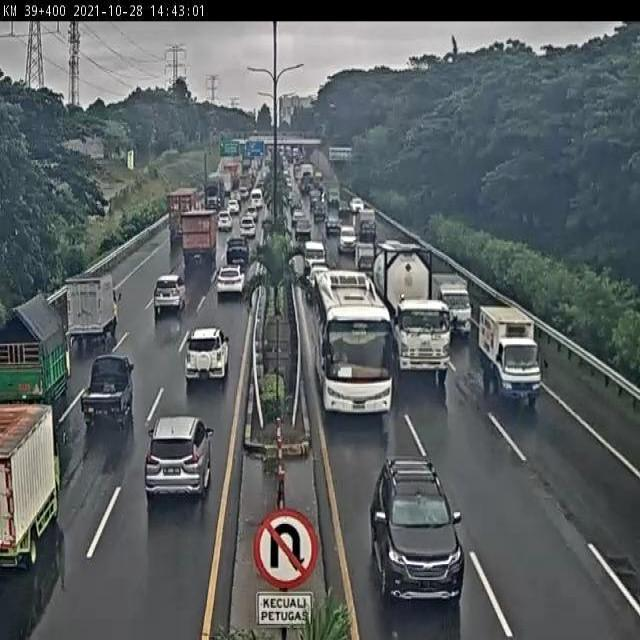big truck: (169, 185, 207, 247), (182, 206, 218, 266)
bus-l-: (314, 271, 394, 421)
car: (370, 457, 464, 607), (143, 417, 212, 504), (82, 355, 135, 425), (183, 327, 231, 389), (154, 275, 188, 316), (216, 265, 245, 303), (226, 235, 251, 265), (304, 239, 326, 269), (216, 208, 235, 233), (240, 214, 257, 238), (226, 196, 241, 216), (246, 203, 258, 220)
small truck: (0, 296, 69, 419), (66, 270, 121, 342)
truck-s-: (479, 305, 542, 404), (430, 270, 472, 342)
truck-xl-: (371, 237, 453, 387)
